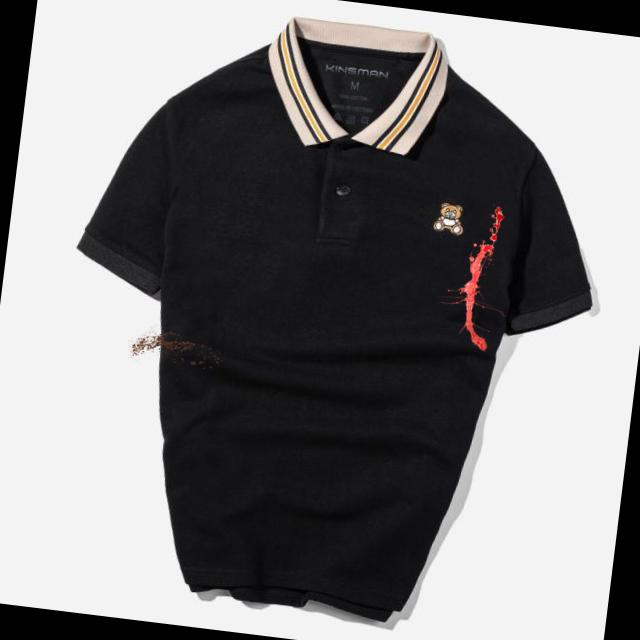stain: (442, 199, 514, 350), (125, 324, 218, 370)
